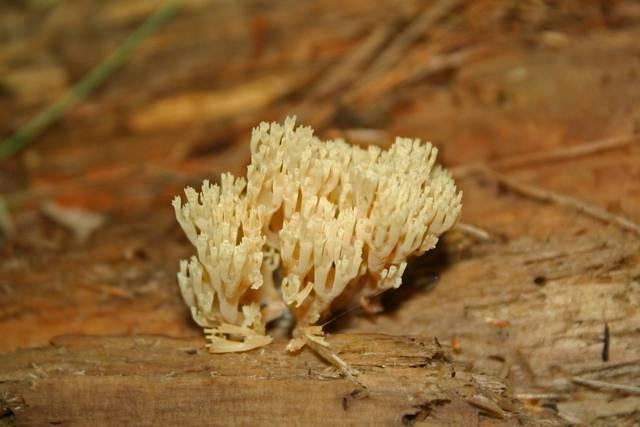Edible Mushroom: (170, 113, 464, 372), (170, 170, 279, 353)
